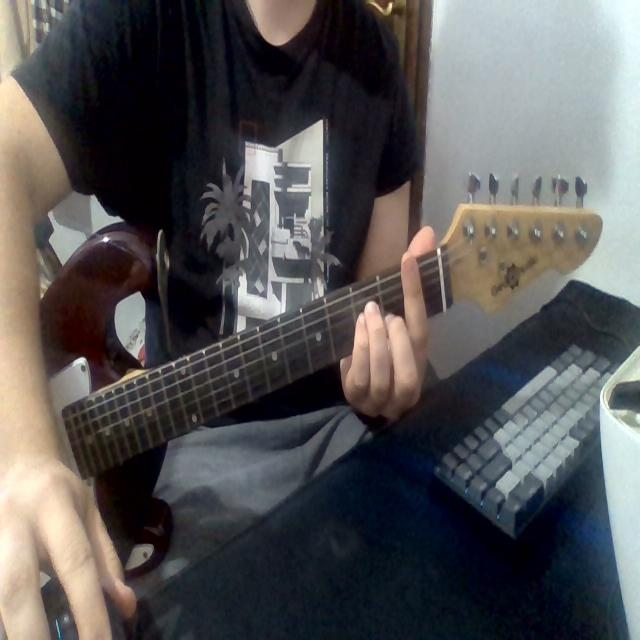Bm: (349, 246, 431, 409)
